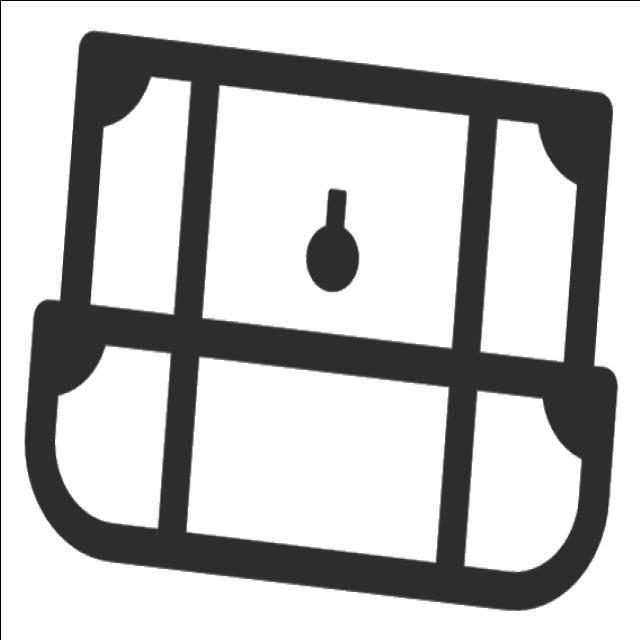treasure_box: (16, 32, 624, 617)
